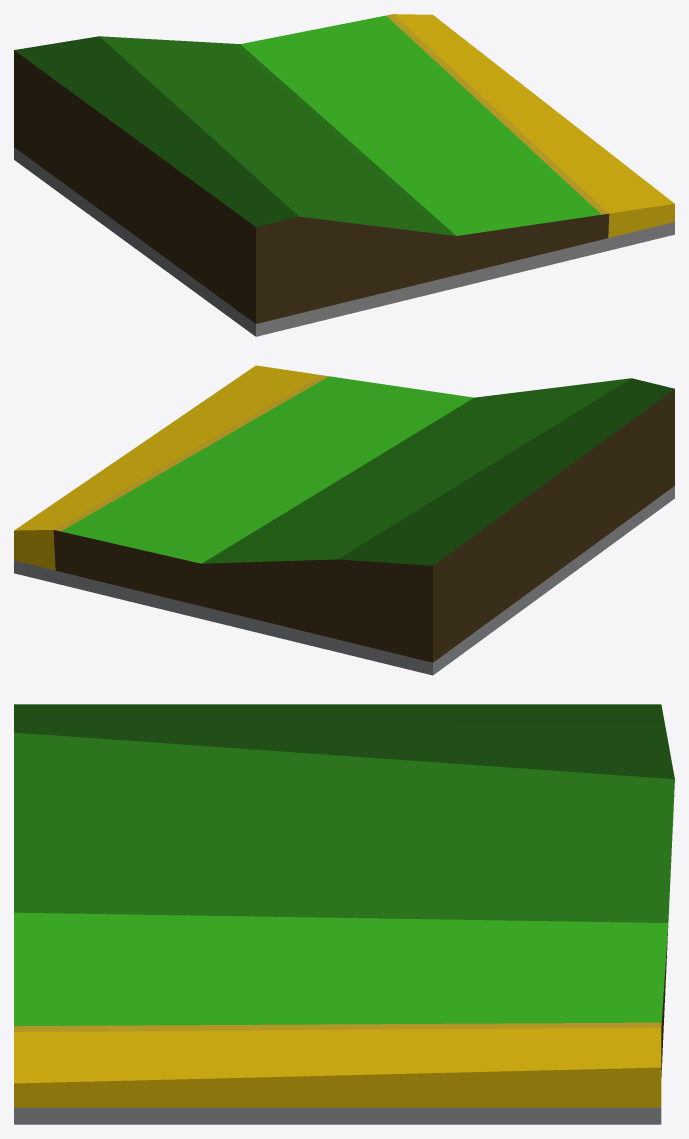
3 renders of one model, top to bottom at view 1: azimuth 30°, elevation 25°; view 2: azimuth 150°, elevation 25°; view 3: azimuth 270°, elevation 25°, orthographic. The views are drawn at different scales.
Visible parts, largest first — view 1: Reference.001, Reference.002, Boundary.001; view 2: Reference.001, Reference.002, Boundary.001; view 3: Reference.001, Reference.002, Boundary.001.
Part boxes in pixels (x1,y1,x2,y2): Reference.001: (14,36,457,323); Reference.002: (240,14,674,274); Boundary.001: (14,147,674,336); Reference.001: (201,378,674,662); Reference.002: (14,365,473,606); Boundary.001: (14,486,674,675); Reference.001: (14,704,674,922); Reference.002: (14,912,668,1107); Boundary.001: (14,1107,661,1124).
Size of what is drawn, in the model's own units: 24 by 6 by 24.5.
